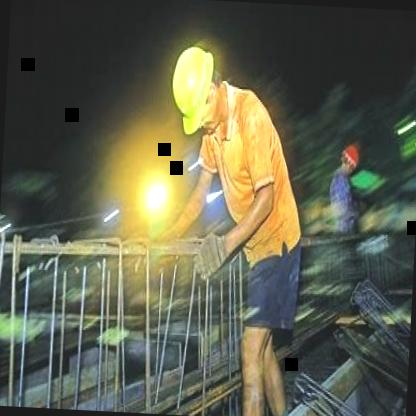helmet: (164, 42, 222, 128), (334, 138, 360, 184)
